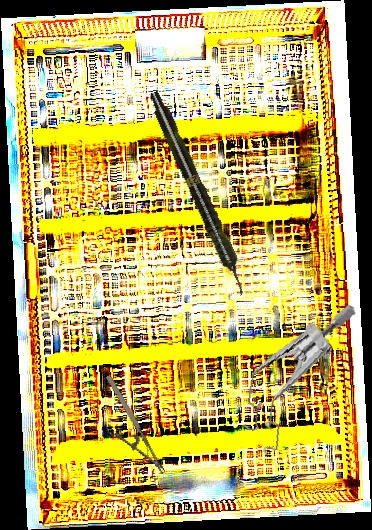Handpiece: (144, 88, 253, 299)
Needle Holder: (89, 373, 166, 485)
Speculum: (235, 289, 358, 469)
